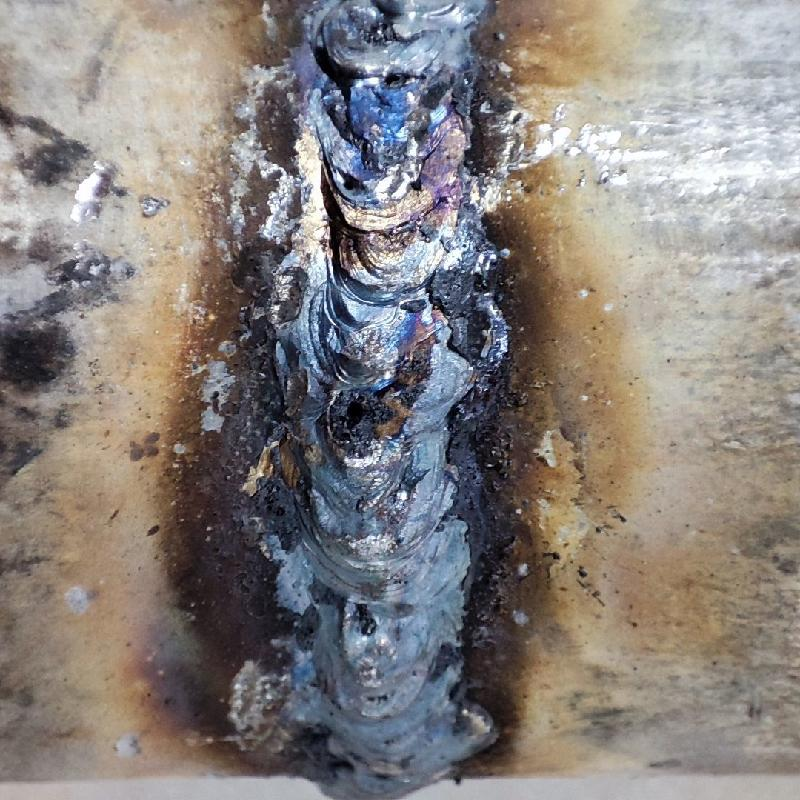Surface_pores: (328, 389, 394, 453), (369, 55, 423, 103), (330, 160, 377, 206), (398, 160, 439, 204)
